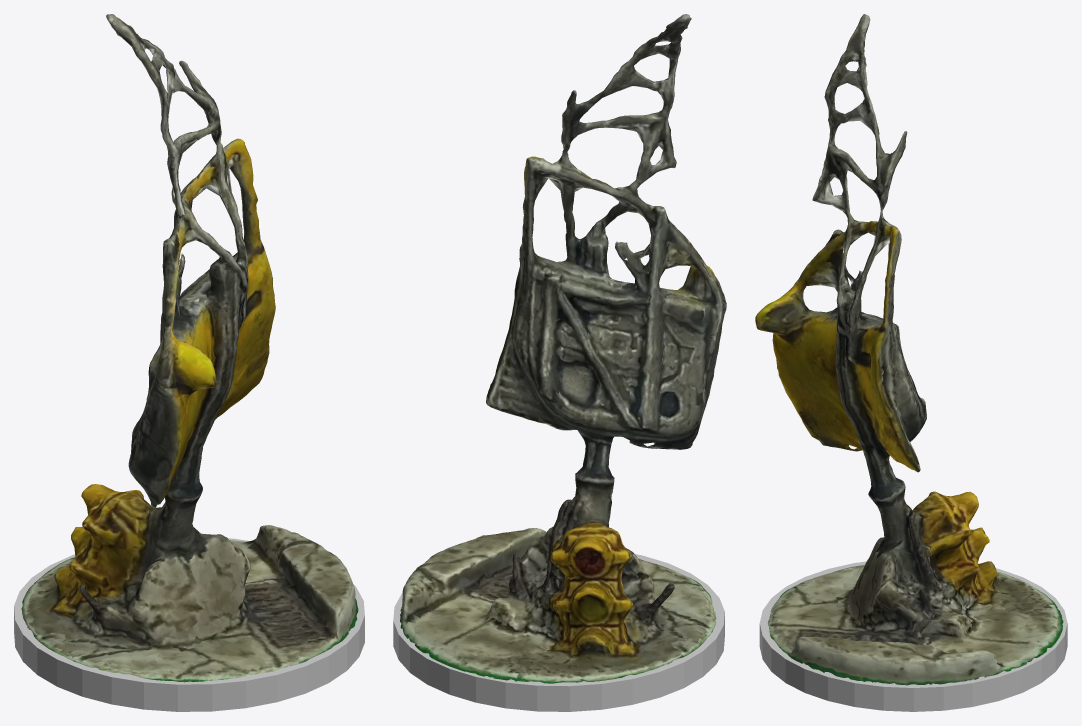
The model's file is construct-1.glb.
3 views of the same model, side by side, from view 1: azimuth 30°, elevation 25°; view 2: azimuth 150°, elevation 25°; view 3: azimuth 270°, elevation 25° (orthographic). The views are drawn at different scales.
Visible parts, largest first — view 1: Construct1, default; view 2: Construct1, default; view 3: Construct1, default.
Part boxes in pixels (<box>): Construct1: <box>21,14,358,682</box>; default: <box>14,538,364,711</box>; Construct1: <box>400,14,726,683</box>; default: <box>393,554,724,711</box>; Construct1: <box>755,14,1063,685</box>; default: <box>759,561,1067,711</box>.
Bounding box in the file's own units: 1.38 × 2.89 × 1.4.
2 materials, 1 textured.
